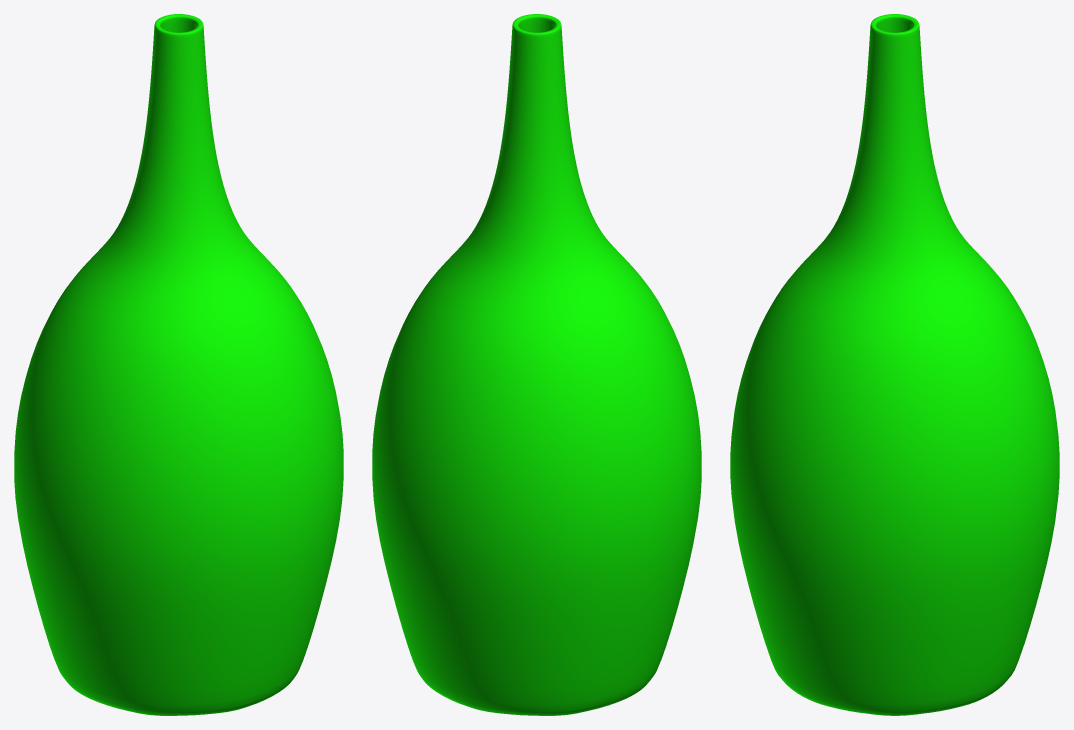
Rendered from Glass 3.fbx.
The picture shows the model from 3 angles, left to right: view 1: azimuth 30°, elevation 25°; view 2: azimuth 150°, elevation 25°; view 3: azimuth 270°, elevation 25°; orthographic projection.
Parts seen in each view (by area): view 1: Glass 3; view 2: Glass 3; view 3: Glass 3.
Part boxes in pixels (x1,y1,x2,y2): Glass 3: [14, 14, 343, 715]; Glass 3: [372, 14, 701, 715]; Glass 3: [730, 14, 1059, 715].
Size of the model in its own units: 0.3732 by 0.8067 by 0.3732.
